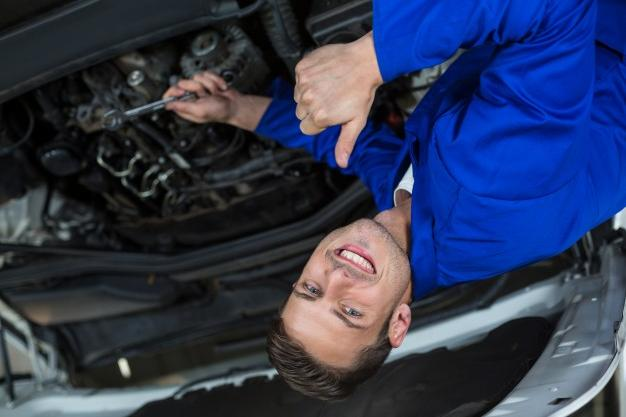thumbsdown: (292, 44, 357, 168)
